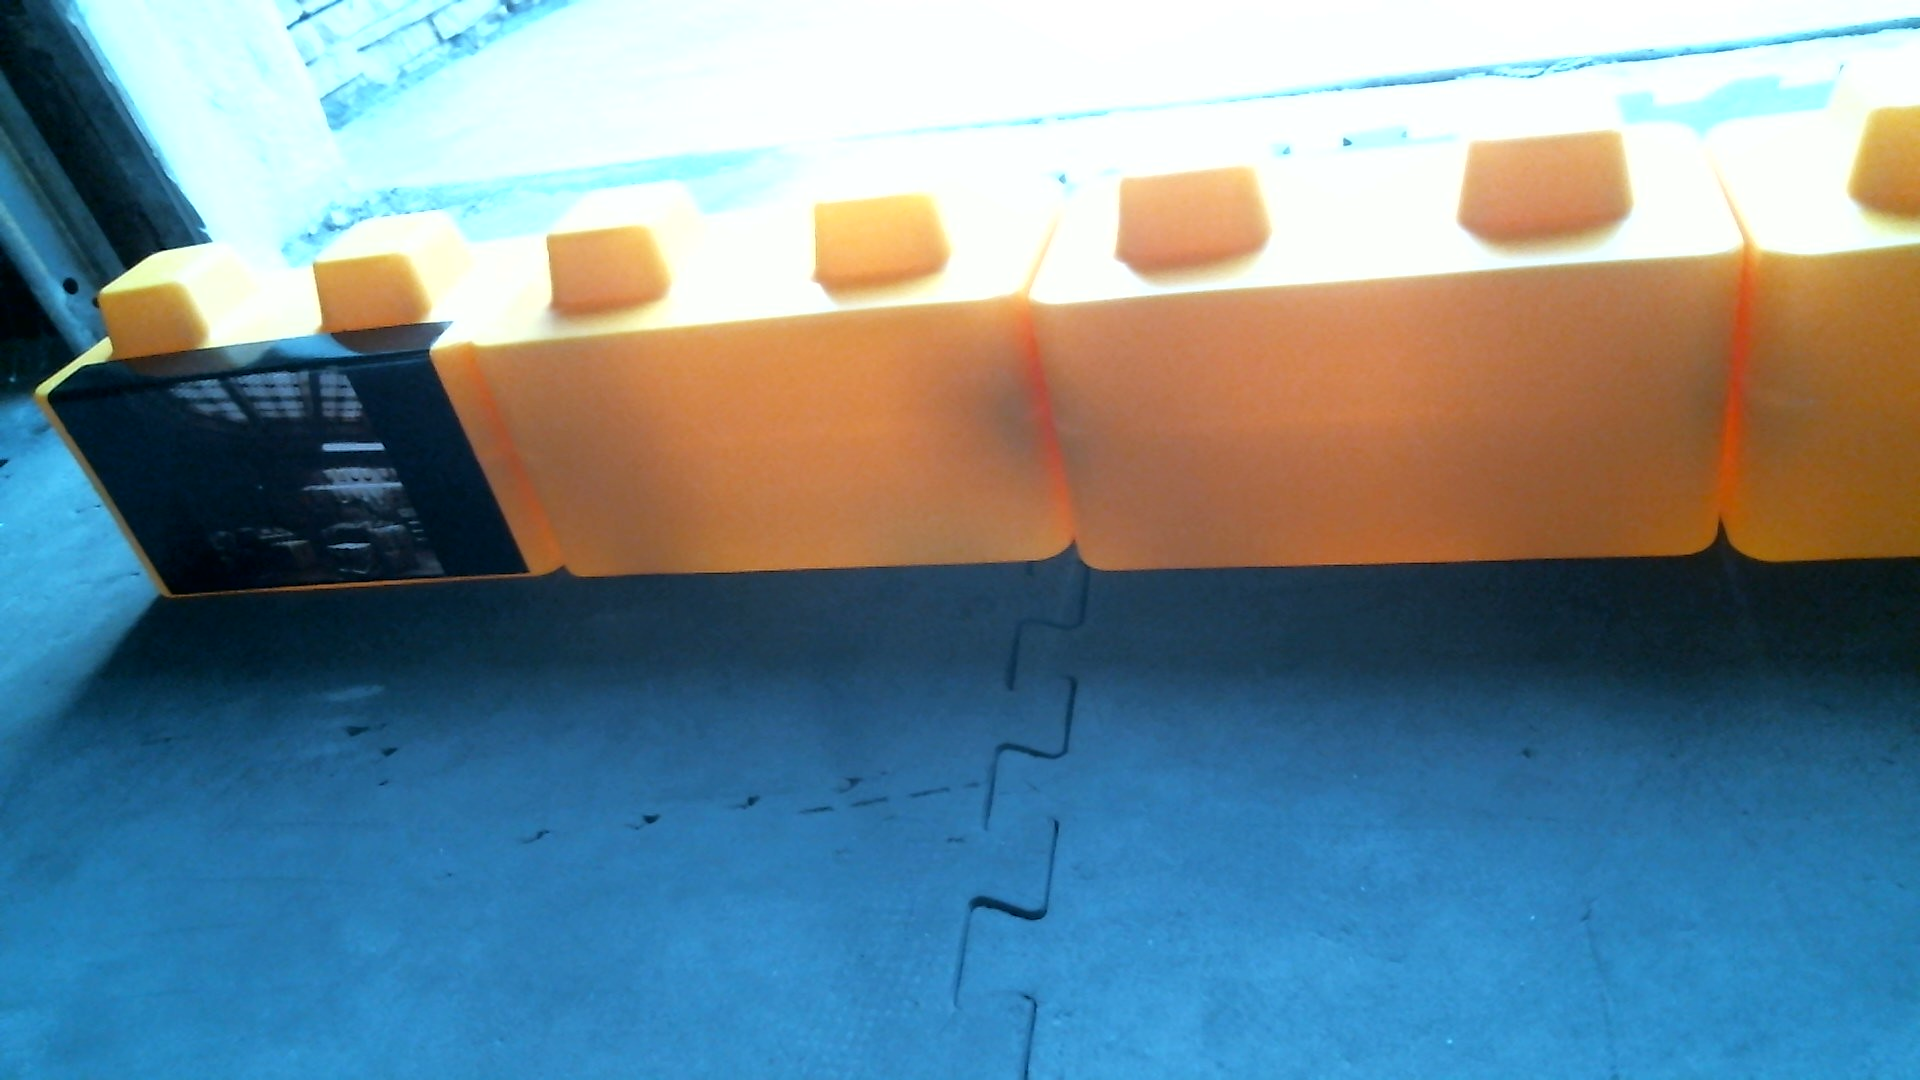left: (28, 79, 1919, 603)
